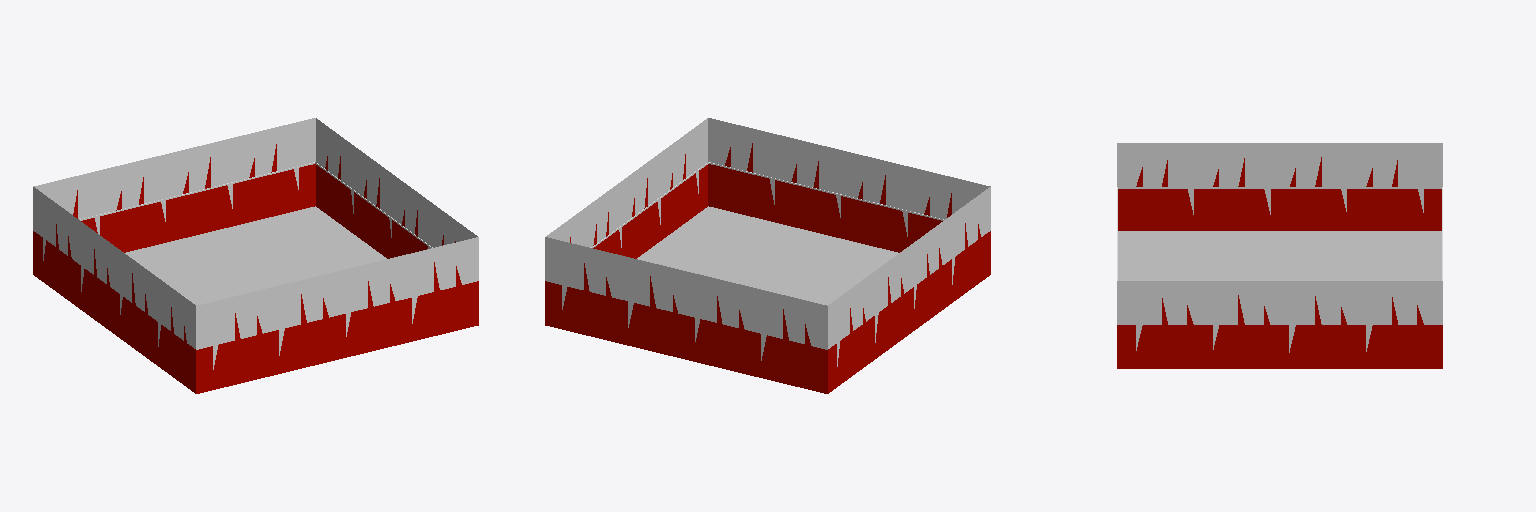
File: room.obj
3 views of the same model, side by side, from view 1: azimuth 30°, elevation 25°; view 2: azimuth 150°, elevation 25°; view 3: azimuth 270°, elevation 25° (orthographic).
Visible parts, largest first — view 1: wall.002, wall, wall.003, floor, wall.001; view 2: wall, wall.002, wall.003, floor, wall.001; view 3: wall.001, wall.003, floor.
Boxes of the visible parts, box(x1,y1,x2,y2) form: wall.002: box(196, 237, 478, 393); wall: box(33, 118, 315, 252); wall.003: box(33, 187, 195, 393); floor: box(125, 206, 386, 305); wall.001: box(315, 118, 478, 281); wall: box(545, 237, 827, 393); wall.002: box(708, 118, 990, 252); wall.003: box(828, 187, 990, 393); floor: box(637, 206, 898, 305); wall.001: box(545, 118, 708, 282); wall.001: box(1117, 281, 1442, 368); wall.003: box(1117, 143, 1442, 230); floor: box(1118, 231, 1441, 280).
Size of the model in its own units: 10 by 3 by 10.